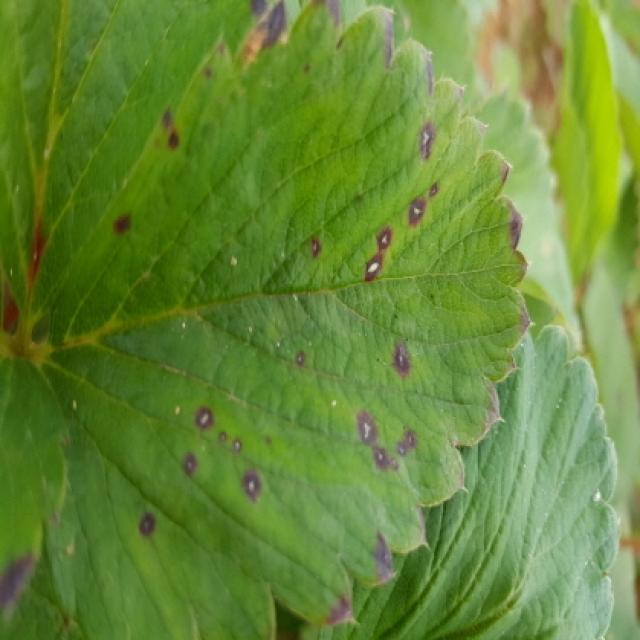Leaf Spot: (39, 0, 535, 638)
